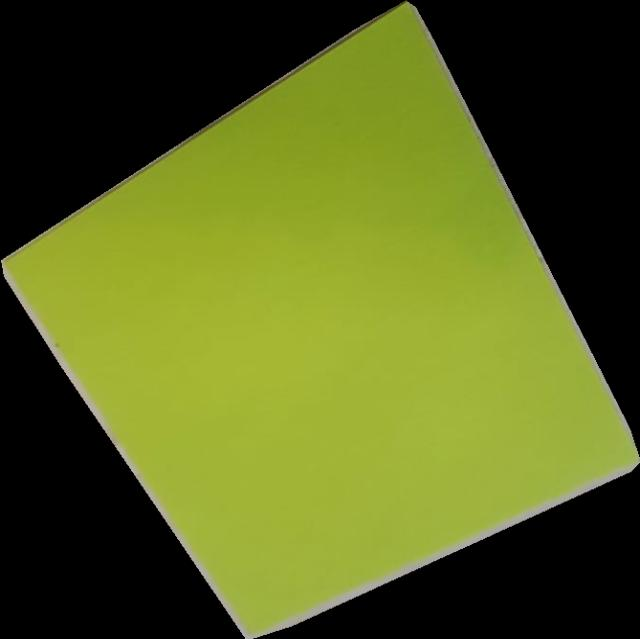Boxes: (1, 0, 640, 639)
